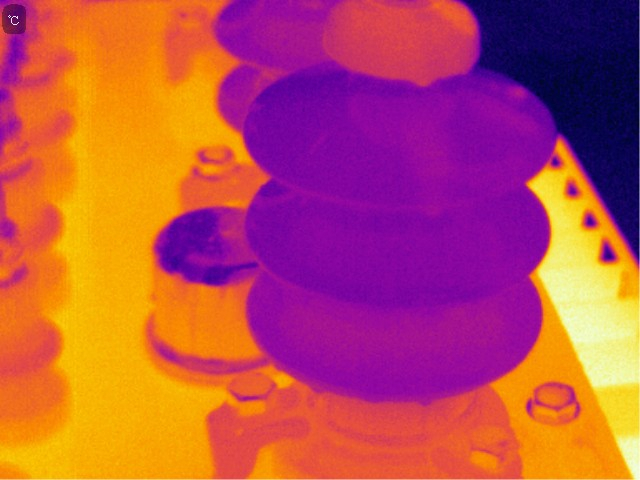Oil: (331, 1, 485, 91), (405, 100, 449, 219), (256, 188, 299, 208), (502, 83, 529, 102), (309, 379, 326, 396), (272, 358, 290, 373), (416, 395, 435, 409)
